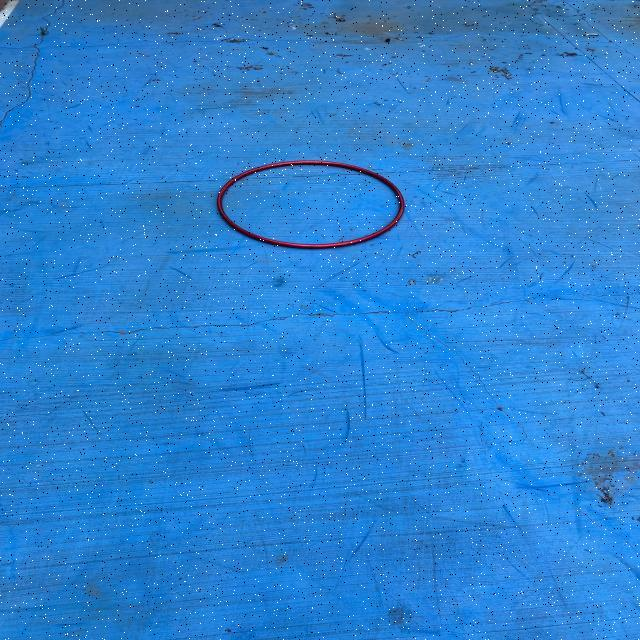Circle: (216, 159, 407, 249)
